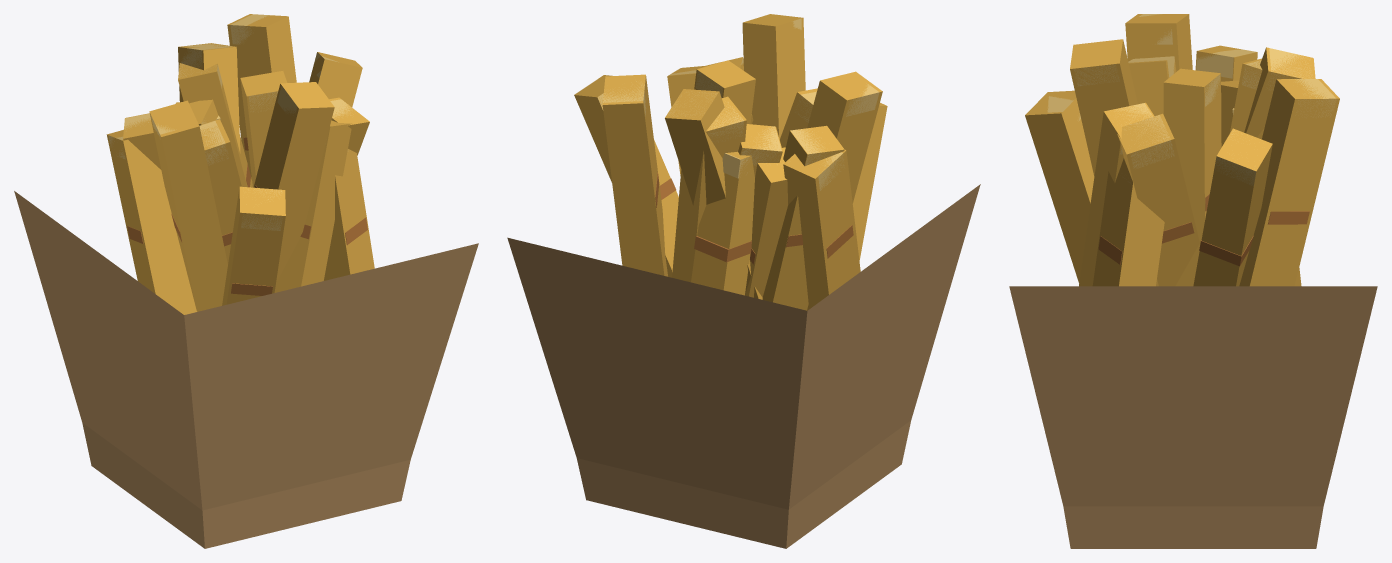
Rendered from fries-rustic.glb.
The picture shows the model from 3 angles, left to right: view 1: azimuth 30°, elevation 25°; view 2: azimuth 150°, elevation 25°; view 3: azimuth 270°, elevation 25°; orthographic projection. The views are drawn at different scales.
Visible parts, largest first — view 1: fries-rustic; view 2: fries-rustic; view 3: fries-rustic.
Part boxes in pixels (x1,y1,x2,y2): fries-rustic: (14,14,478,548); fries-rustic: (507,14,980,548); fries-rustic: (1009,14,1377,548).
Bounding box in the file's own units: 0.1018 × 0.1398 × 0.1018.
